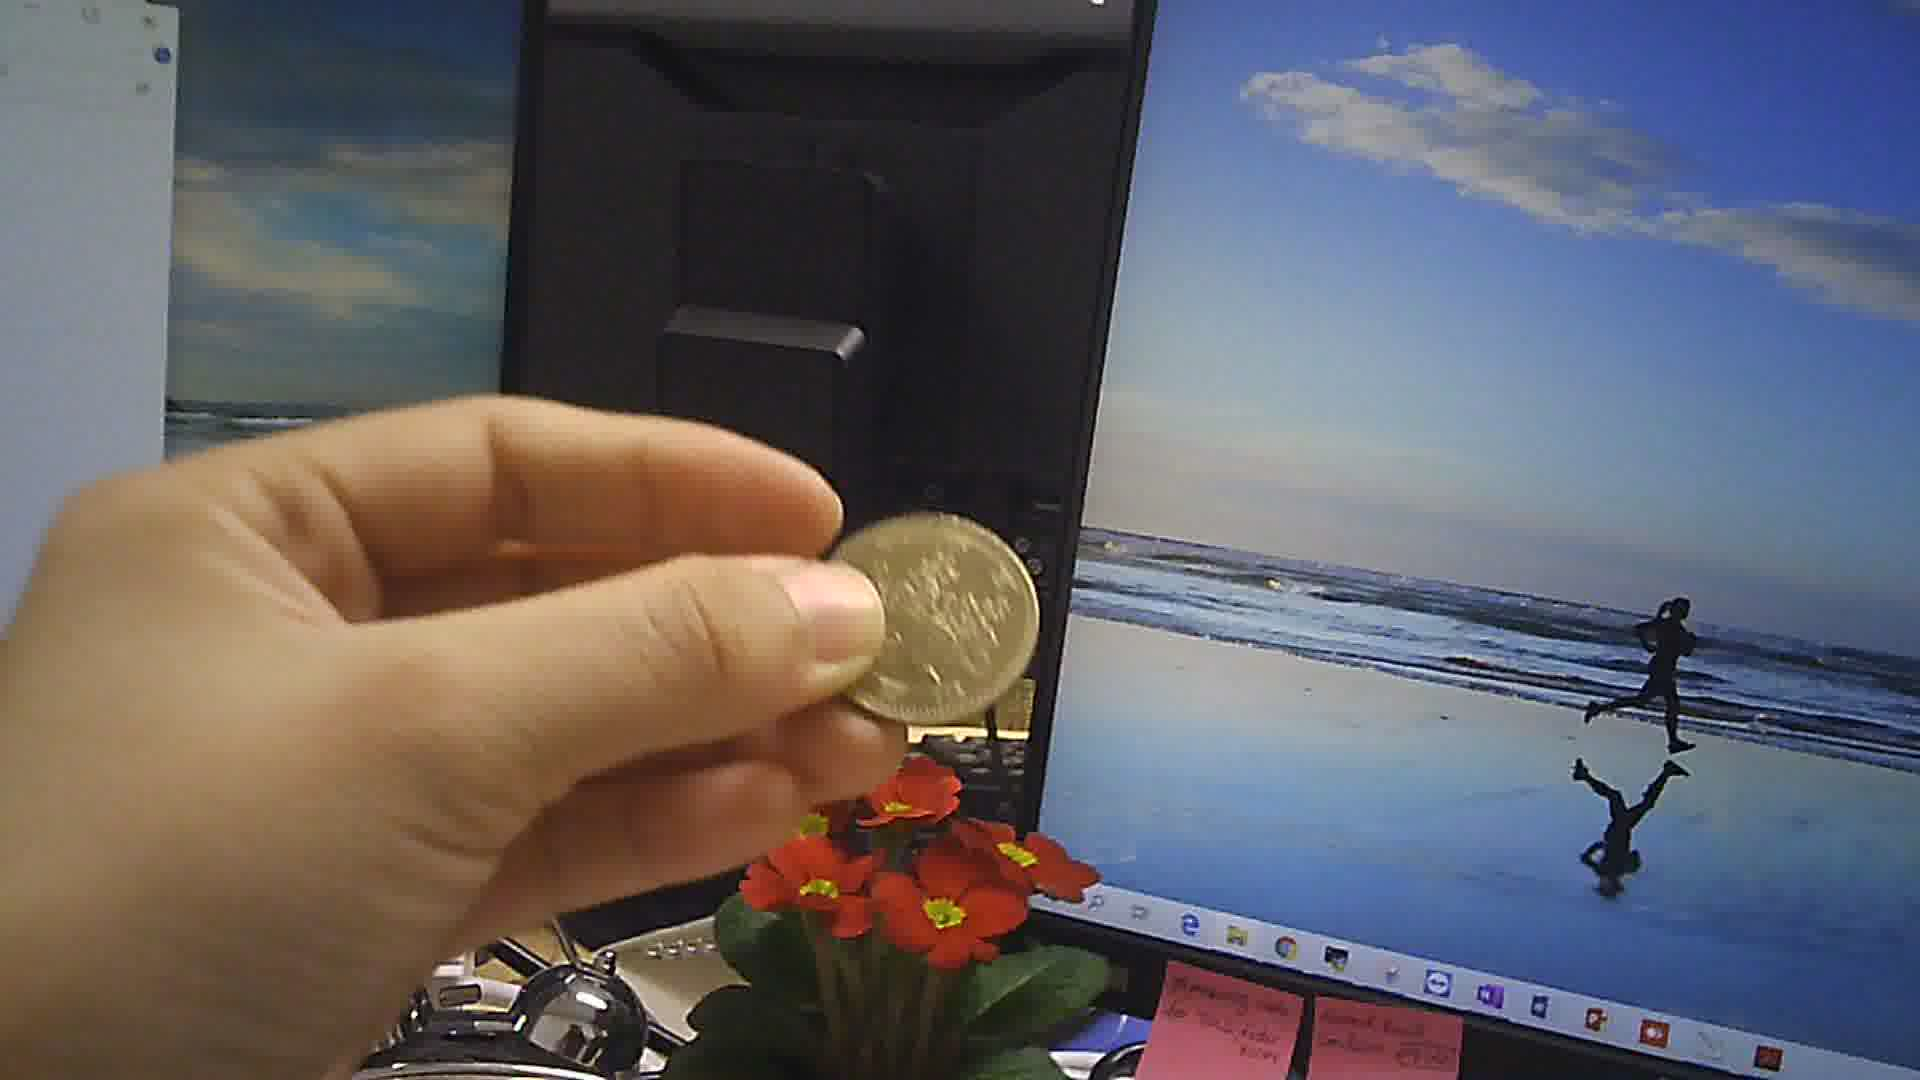500 Yen: (802, 500, 1052, 731)
